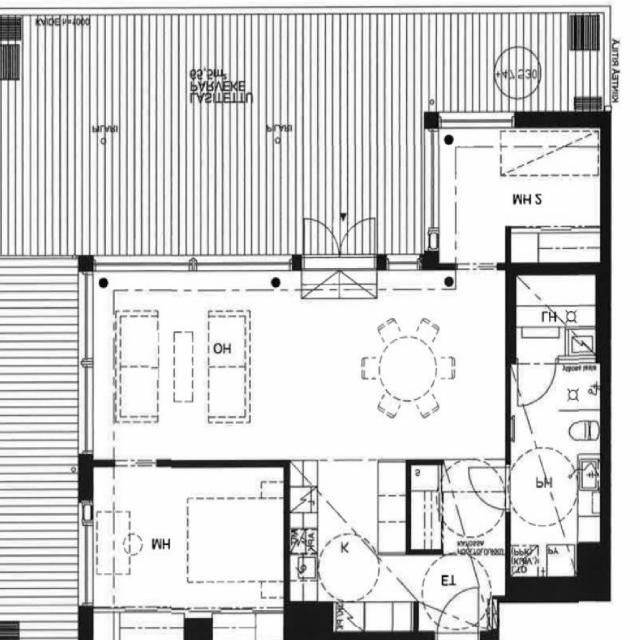door: (438, 586, 479, 640), (339, 212, 375, 270), (304, 212, 339, 270), (468, 467, 511, 509), (519, 356, 555, 404)
